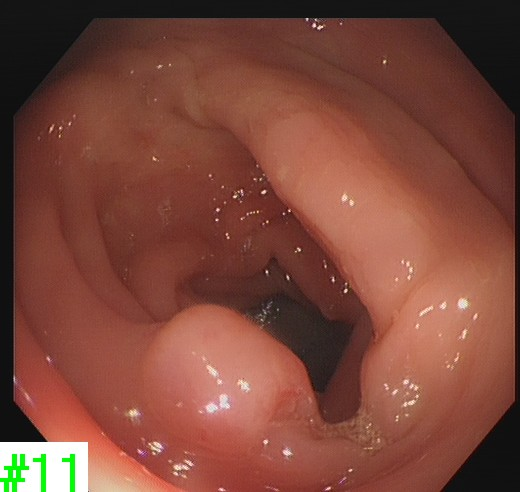adenoma: (138, 300, 325, 465)
